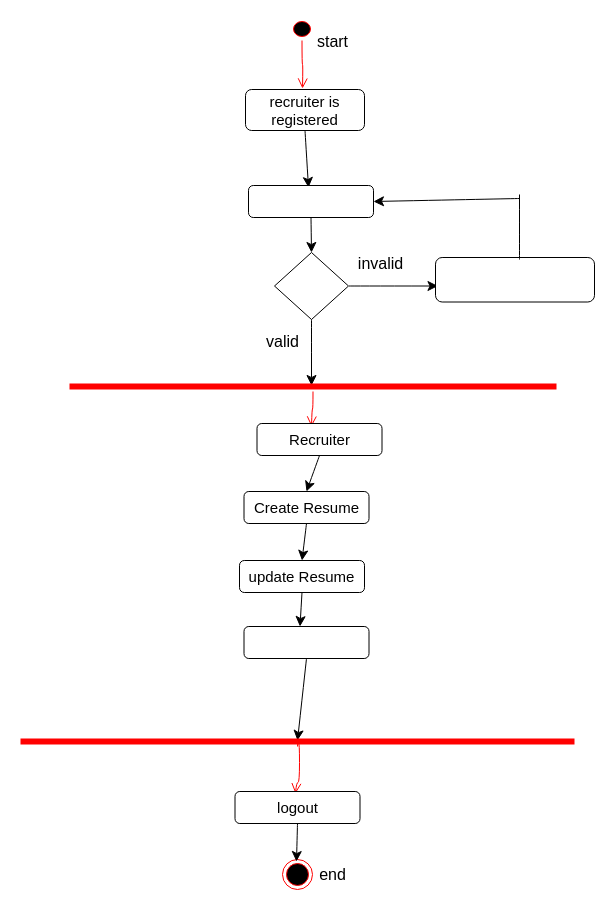
This 612x907 diagram has some shape labels left out. Each missing label, with the centre of its shape:
login: point 311,201
Re-entered username and password: point 514,279
upload resume: point 306,642
